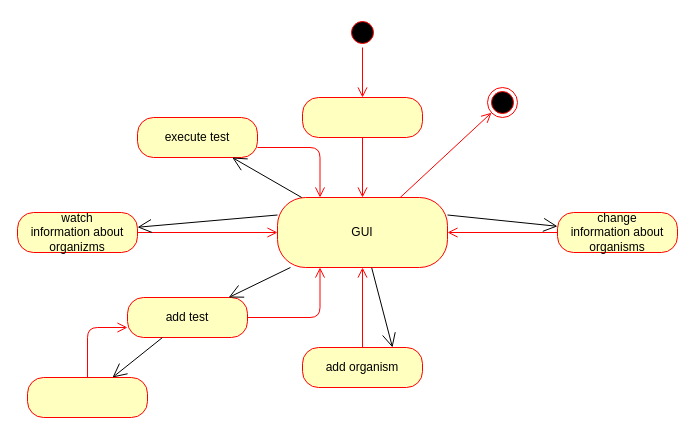
This 695x435 diagram has some shape labels left out. Here are the shapes that lost their labels. From the top down, the centre of each, then its label:
At [362,117]: "choose user".
At [87,397]: "add quastion".
